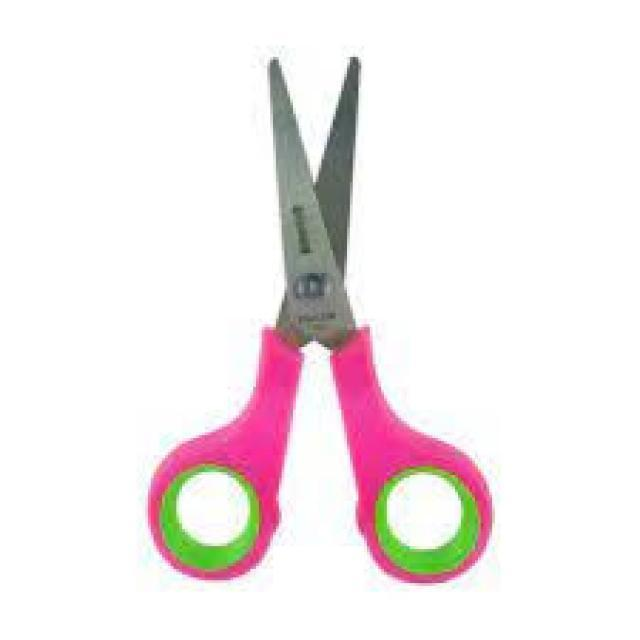Scissors: (140, 45, 502, 600)
